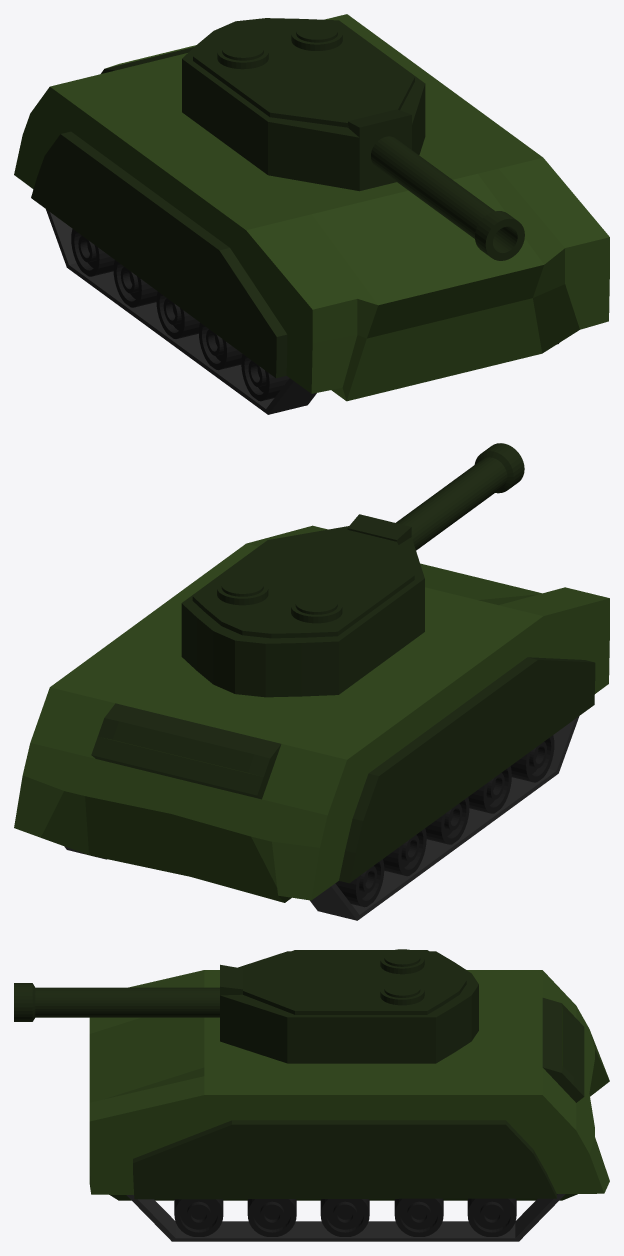
The model's file is tank.obj.
3 renders of one model, top to bottom at view 1: azimuth 30°, elevation 25°; view 2: azimuth 150°, elevation 25°; view 3: azimuth 270°, elevation 25°, orthographic. The views are drawn at different scales.
Parts seen in each view (by area): view 1: body_Cube.021, turret_Cylinder.012, maingun_Cylinder.014, road_wheels_Cube.026, tracks_Cube.017; view 2: body_Cube.021, turret_Cylinder.012, maingun_Cylinder.014, road_wheels_Cube.026, tracks_Cube.017; view 3: body_Cube.021, turret_Cylinder.012, road_wheels_Cube.026, maingun_Cylinder.014, tracks_Cube.017.
Part boxes in pixels (x1,y1,x2,y2): body_Cube.021: [14, 14, 609, 401]; turret_Cylinder.012: [182, 18, 425, 190]; maingun_Cylinder.014: [348, 109, 524, 260]; road_wheels_Cube.026: [71, 229, 289, 401]; tracks_Cube.017: [46, 209, 558, 414]; body_Cube.021: [14, 525, 609, 902]; turret_Cylinder.012: [181, 526, 424, 697]; maingun_Cylinder.014: [347, 443, 524, 550]; road_wheels_Cube.026: [335, 735, 554, 907]; tracks_Cube.017: [64, 716, 579, 920]; body_Cube.021: [89, 970, 609, 1200]; turret_Cylinder.012: [220, 949, 478, 1063]; road_wheels_Cube.026: [174, 1198, 516, 1236]; maingun_Cylinder.014: [14, 964, 242, 1021]; tracks_Cube.017: [126, 1194, 565, 1241].
Bounding box in the file's own units: 3.86 × 2.8 × 7.25.
